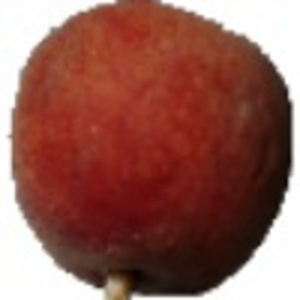pêssego: (8, 1, 294, 300)
